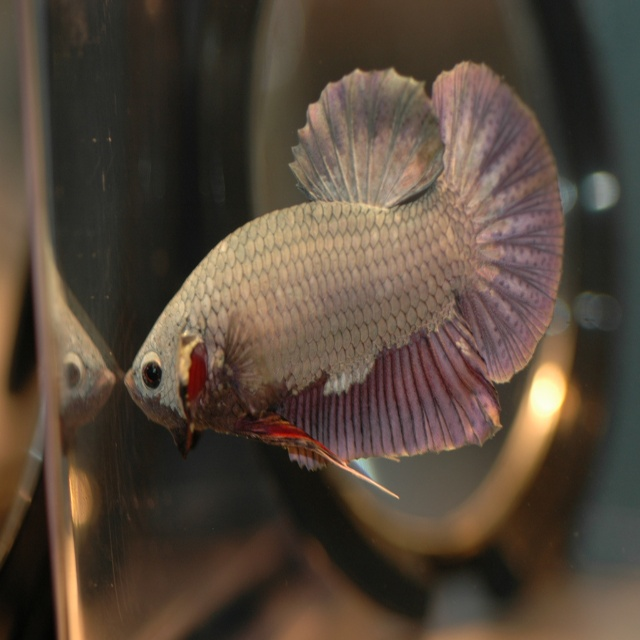Fish: (122, 57, 580, 509)
